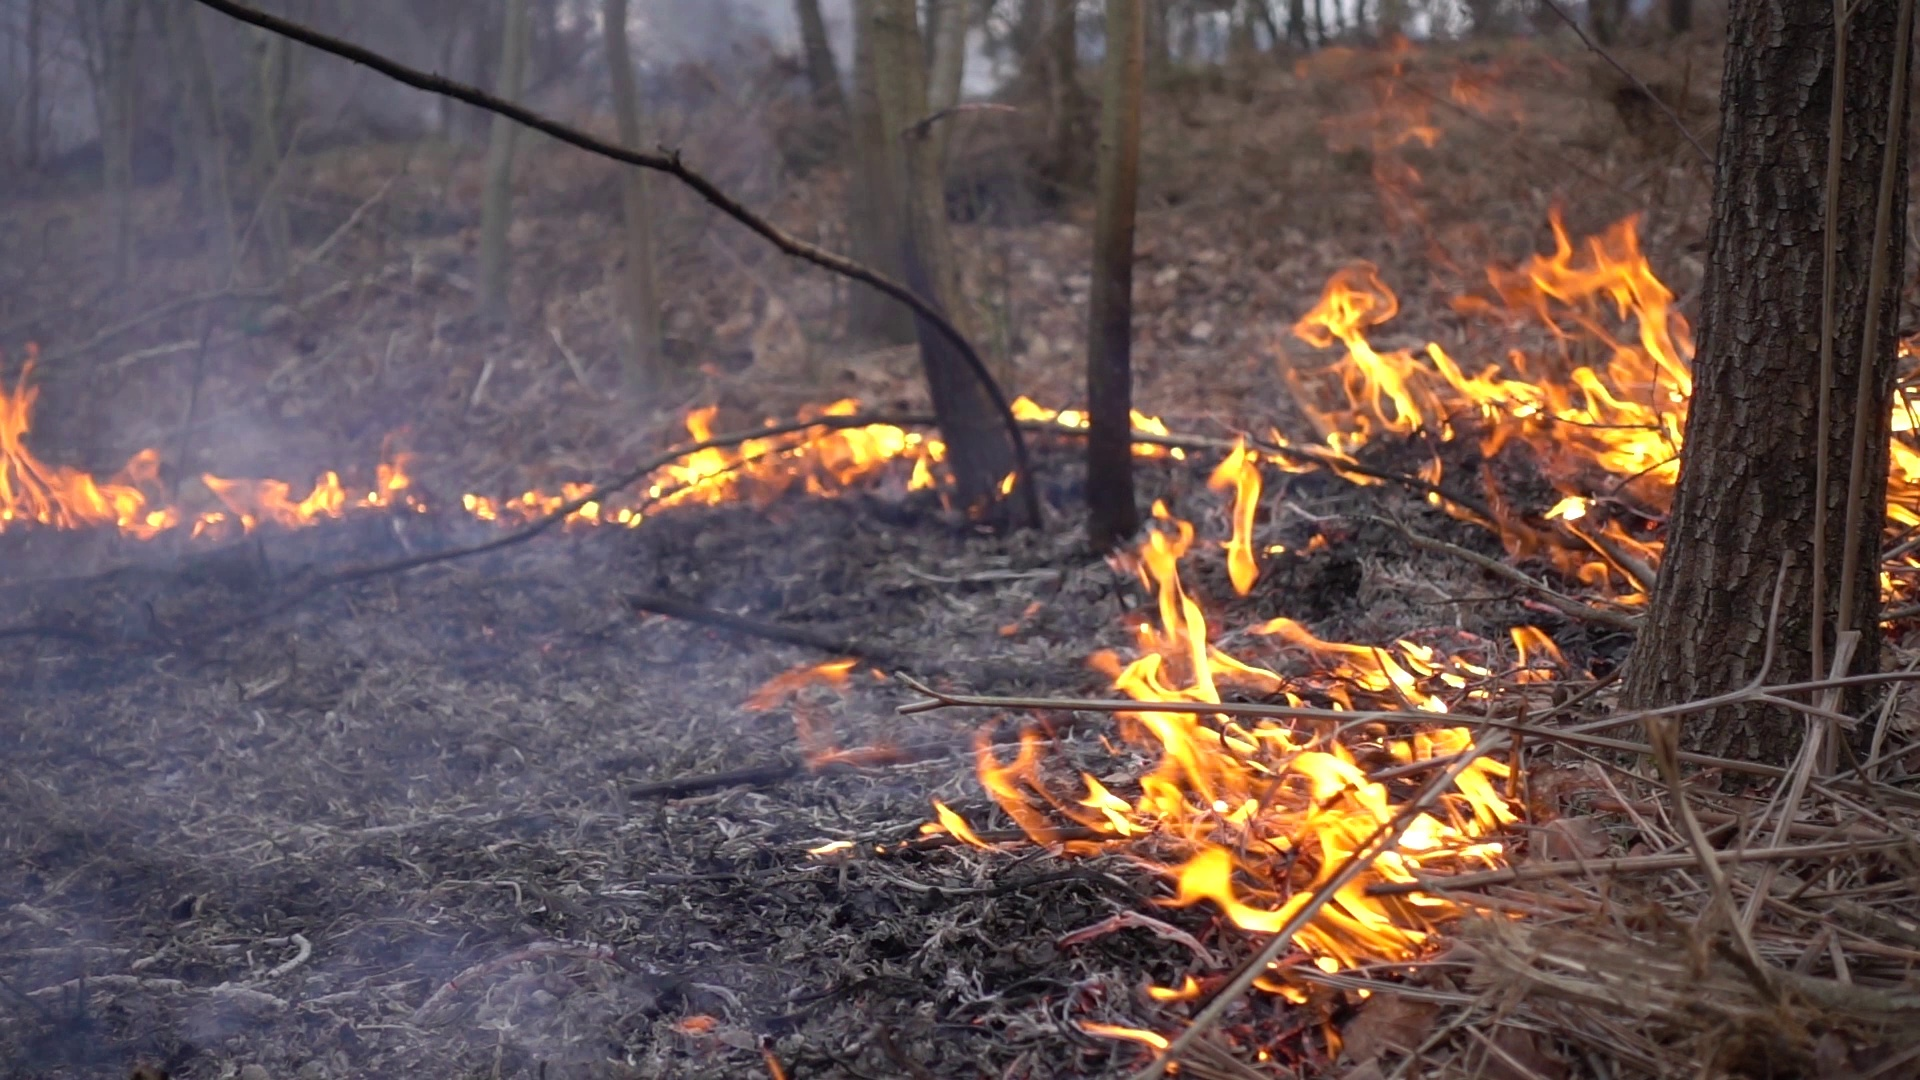fire: (992, 578, 1524, 964), (1294, 219, 1696, 501), (654, 409, 918, 506), (3, 393, 156, 526), (204, 460, 407, 525), (464, 483, 603, 514), (1888, 389, 1920, 526)
